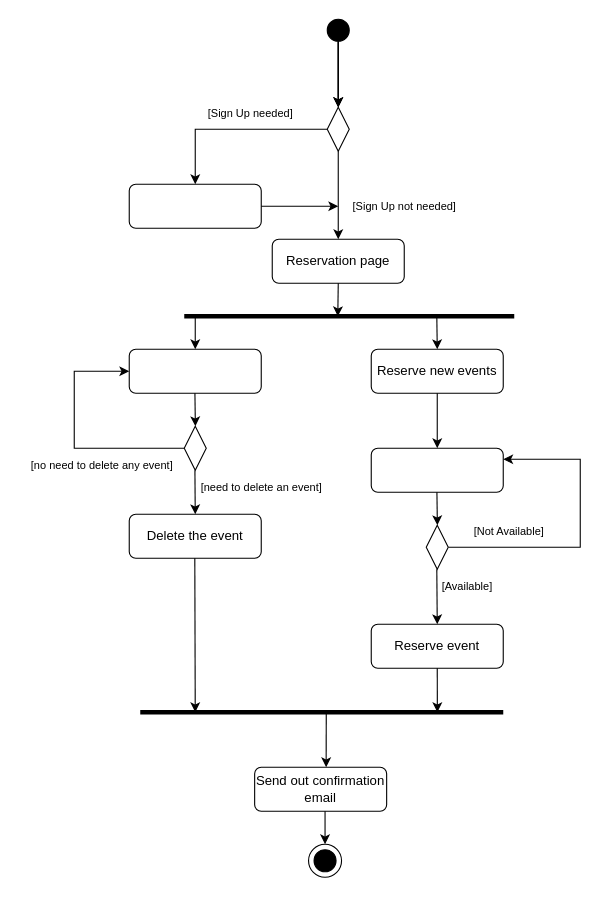
This 608x897 diagram has some shape labels left out. Here are the shapes that lost their labels. From the top down, the centre of each, then its label:
pixel 194 205: Sign Up
pixel 194 370: Check upcoming events
pixel 436 469: Select new events
